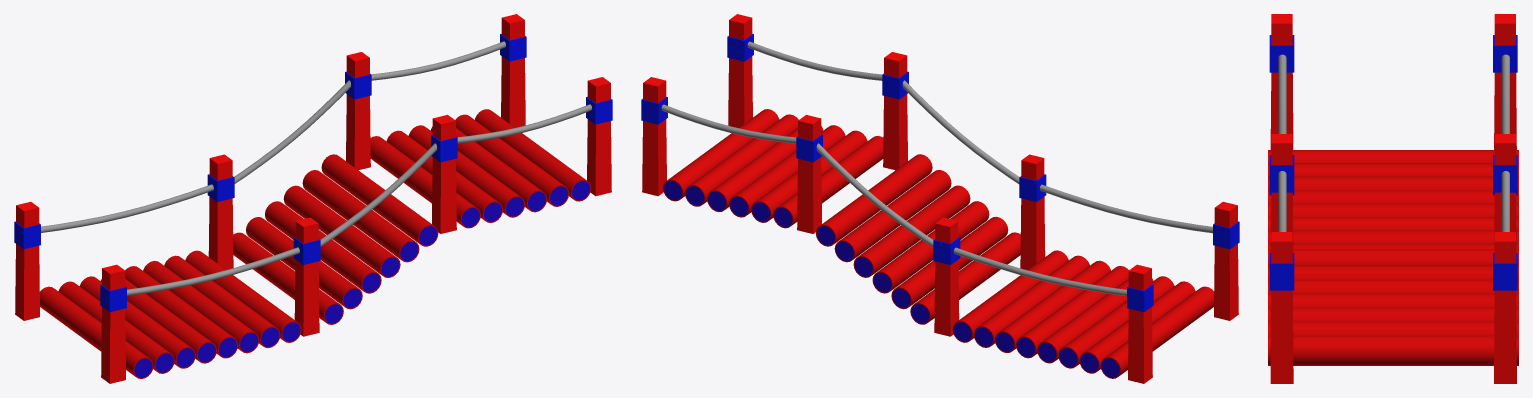
File: PontCorde.FBX
3 views of the same model, side by side, from view 1: azimuth 30°, elevation 25°; view 2: azimuth 150°, elevation 25°; view 3: azimuth 270°, elevation 25° (orthographic). The views are drawn at different scales.
Parts seen in each view (by area): view 1: Buche014, Buche013, Buche012, PilierPont004, PilierPont, PilierPont002, PilierPont003, PilierPont006, PilierPont001, PilierPont005, PilierPont007, Buche011 (+22 smaller); view 2: Buche014, Buche013, Buche012, PilierPont, PilierPont004, PilierPont006, PilierPont007, PilierPont002, PilierPont005, PilierPont001, PilierPont003, Buche011 (+22 smaller); view 3: Buche020, PilierPont003, PilierPont007, Buche014, Buche017, Buche018, Buche019, Buche016, Buche015, Buche003, Buche005, Buche007 (+13 smaller).
Part boxes in pixels (x1,y1,x2,y2): Buche014: (321, 154, 438, 246); Buche013: (302, 170, 419, 262); Buche012: (283, 185, 400, 277); PilierPont004: (14, 201, 40, 320); PilierPont: (100, 264, 126, 383); PilierPont002: (431, 114, 457, 233); PilierPont003: (586, 77, 612, 196); PilierPont006: (345, 52, 371, 170); PilierPont001: (293, 217, 320, 336); PilierPont005: (207, 154, 234, 269); PilierPont007: (500, 14, 526, 127); Buche011: (265, 201, 381, 293); Buche014: (815, 154, 932, 246); Buche013: (834, 170, 951, 262); Buche012: (853, 185, 970, 277); PilierPont: (1213, 201, 1239, 320); PilierPont004: (1127, 264, 1153, 383); PilierPont006: (796, 114, 822, 233); PilierPont007: (641, 77, 667, 196); PilierPont002: (882, 52, 908, 170); PilierPont005: (933, 217, 960, 336); PilierPont001: (1019, 154, 1046, 269); PilierPont003: (727, 14, 753, 127); Buche011: (872, 201, 989, 293); Buche020: (1268, 335, 1518, 365); PilierPont003: (1269, 232, 1294, 383); PilierPont007: (1493, 232, 1517, 383); Buche014: (1268, 249, 1518, 265); Buche017: (1268, 293, 1518, 307); Buche018: (1268, 307, 1518, 321); Buche019: (1268, 321, 1518, 335); Buche016: (1268, 279, 1518, 293); Buche015: (1268, 265, 1518, 279); Buche003: (1268, 176, 1518, 190); Buche005: (1268, 203, 1518, 216); Buche007: (1268, 230, 1518, 243).
Bounding box in the file's own units: 422 × 145 × 140.
